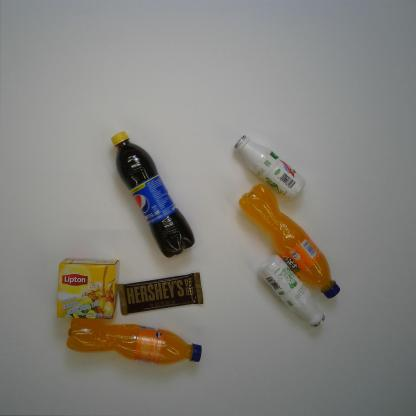Chocolate: (118, 272, 204, 315)
Drink: (238, 184, 341, 299), (111, 130, 195, 258), (66, 317, 202, 366)
Instant Drink: (56, 258, 121, 320)
Milk: (257, 254, 325, 328), (233, 134, 307, 201)
